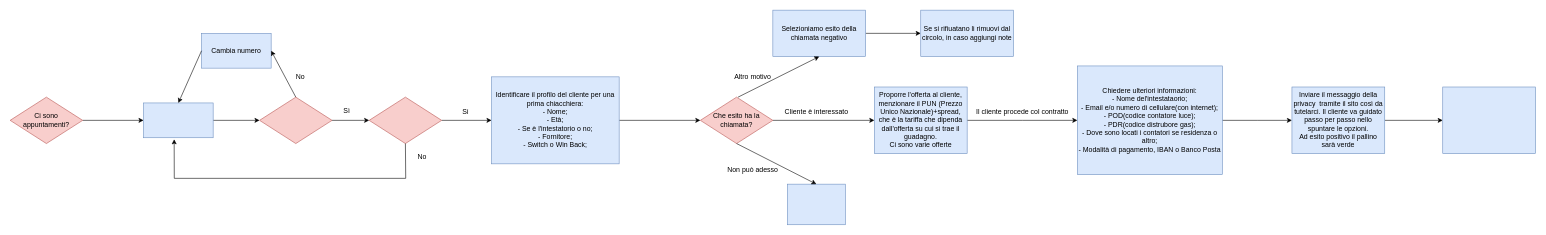
Image size: 1546x235. Some labels were removed from this diagram. The shapes that lost their labels are listed below. From the top down, each one's centre as x and y in pixels, then its label:
At point (178, 120): "Chiama il numero".
At point (295, 120): "La chiamata entra?".
At point (405, 120): "Risponde entro qualche minuto?".
At point (1489, 120): "Compilare il form per finalizzare il contratto con I vari dati ottenuti".
At point (816, 204): "Prenotare un appuntamento".
